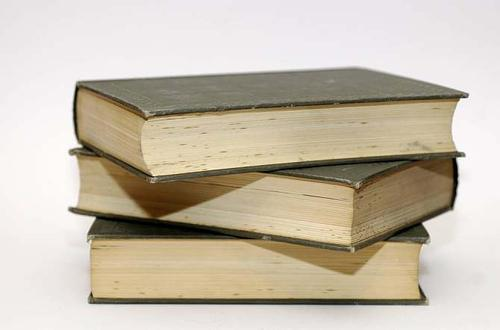book: (61, 57, 478, 195), (63, 136, 474, 265), (70, 201, 448, 320)
